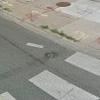Crosswalk: (13, 48, 99, 100)
